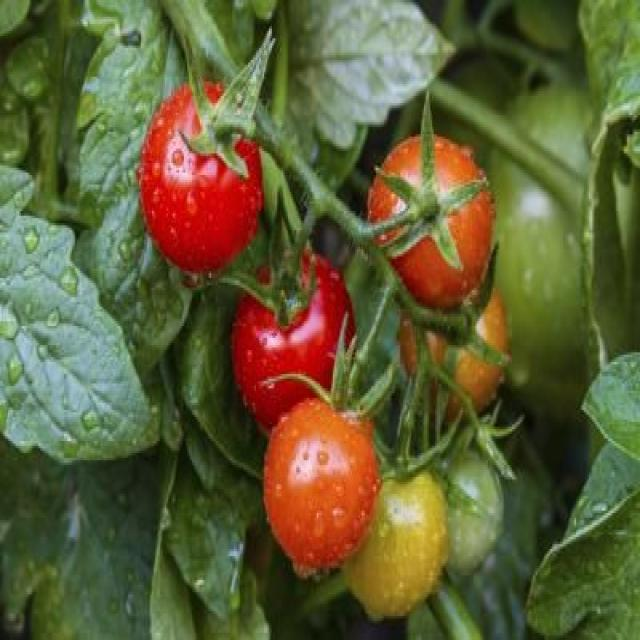level 1: (411, 438, 506, 580)
level 3: (342, 459, 454, 620)
level 4: (402, 282, 507, 414)
level 5: (373, 134, 492, 310), (264, 404, 379, 576)
level 6: (141, 84, 260, 272), (238, 256, 356, 437)
